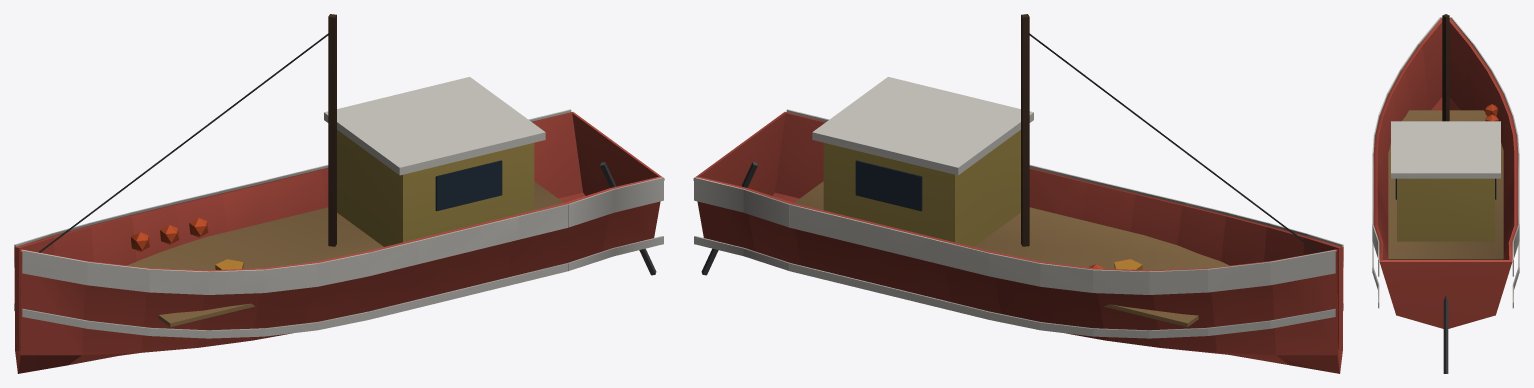
The model's file is mi_fboat_b_lo-u4m_QEL6.glb.
3 views of the same model, side by side, from view 1: azimuth 30°, elevation 25°; view 2: azimuth 150°, elevation 25°; view 3: azimuth 270°, elevation 25° (orthographic). The views are drawn at different scales.
Bounding box in the file's own units: 8.75 × 4.42 × 2.4.
